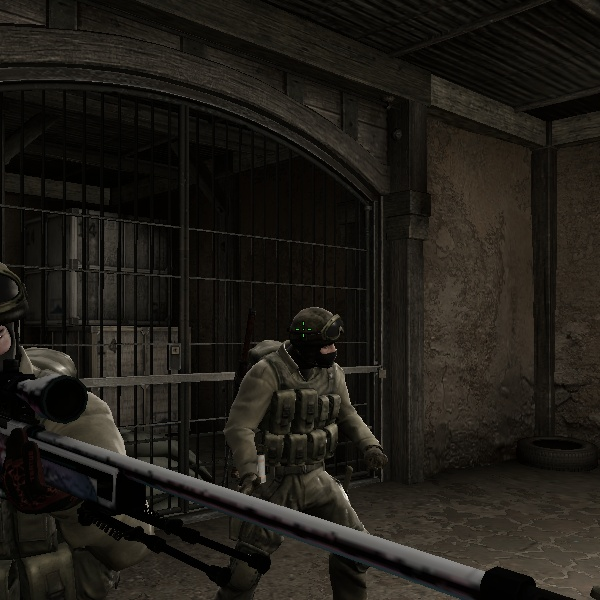ct_body: (212, 302, 406, 583)
ct_head: (273, 302, 357, 378)
